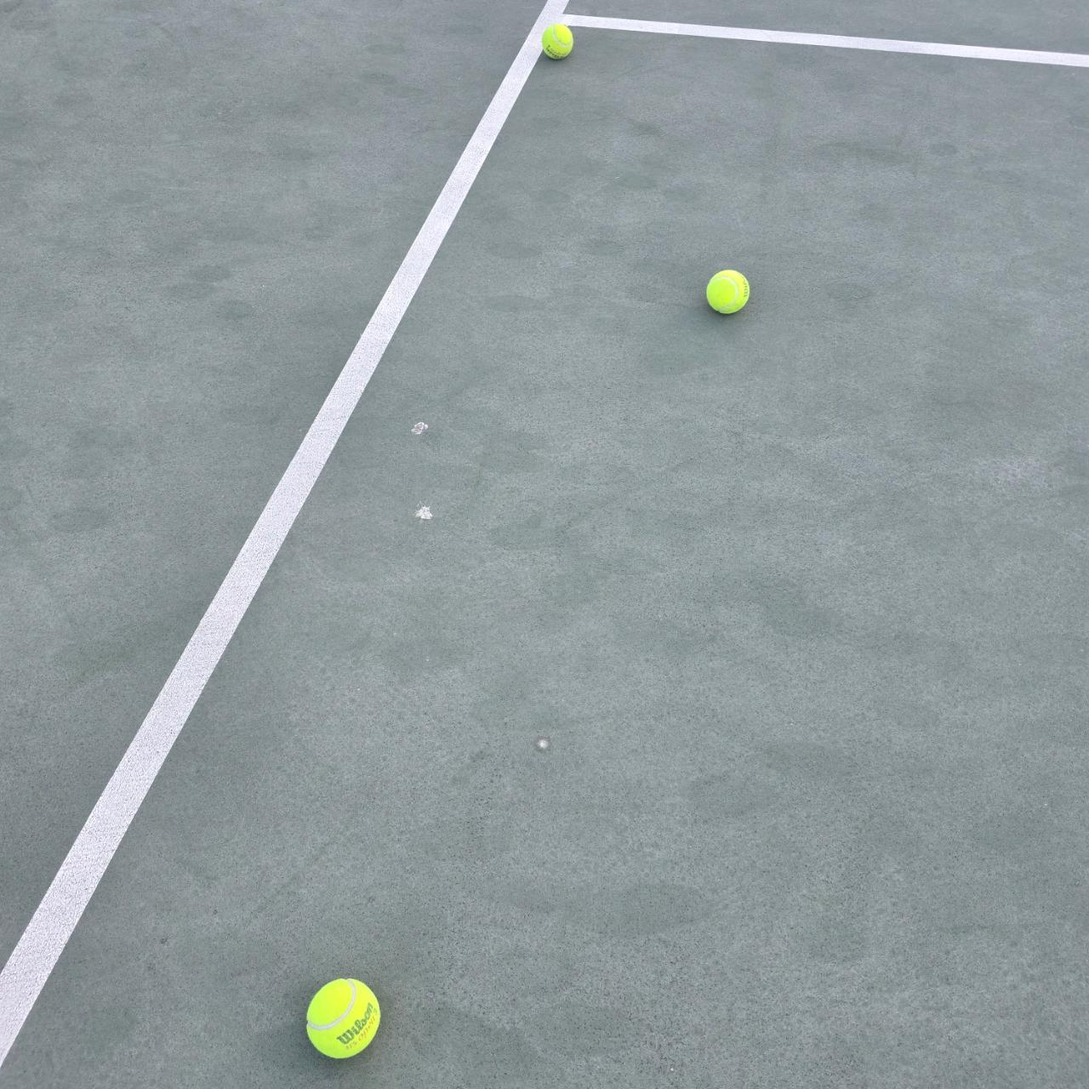tennis-ball: (303, 975, 381, 1060), (704, 266, 751, 316), (539, 21, 574, 60)
